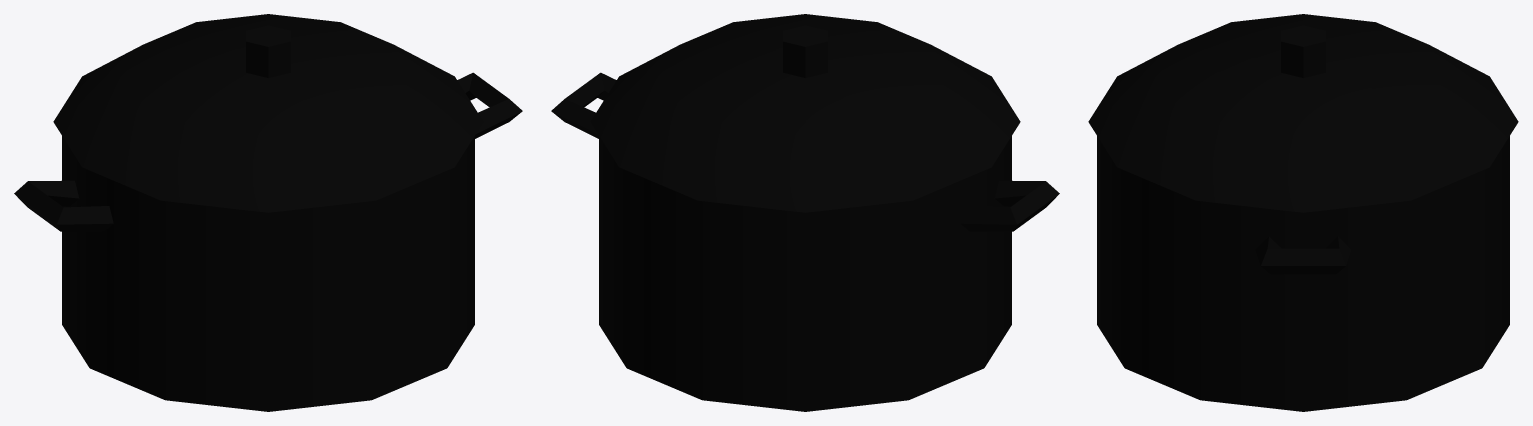
Rendered from SM_pot_enamel.fbx.
3 renders of one model, left to right at view 1: azimuth 30°, elevation 25°; view 2: azimuth 150°, elevation 25°; view 3: azimuth 270°, elevation 25°, orthographic.
Visible parts, largest first — view 1: pot_enamel, pot_enamel_lid; view 2: pot_enamel, pot_enamel_lid; view 3: pot_enamel, pot_enamel_lid.
Part boxes in pixels (bbox=[...]): pot_enamel: bbox=[14, 72, 522, 411]; pot_enamel_lid: bbox=[53, 14, 483, 212]; pot_enamel: bbox=[551, 72, 1059, 411]; pot_enamel_lid: bbox=[590, 14, 1020, 212]; pot_enamel: bbox=[1097, 136, 1509, 411]; pot_enamel_lid: bbox=[1088, 14, 1518, 212].
Bounding box in the file's own units: 0.3128 × 0.185 × 0.25.
